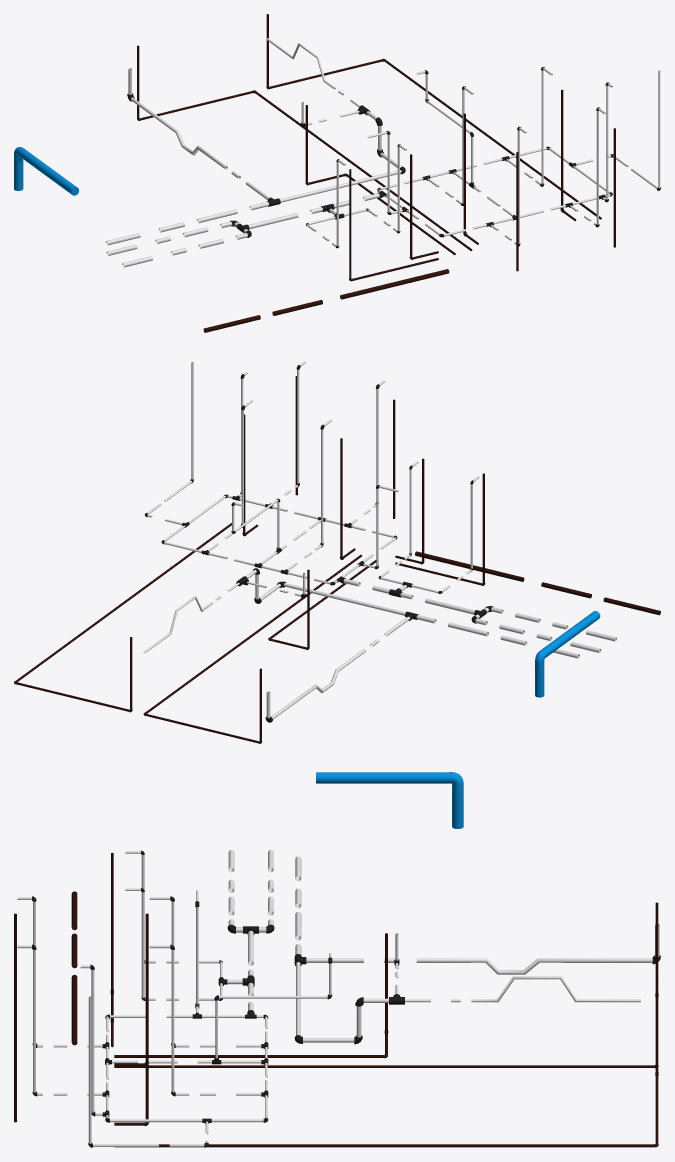
3 views of the same model, one above another, from view 1: azimuth 30°, elevation 25°; view 2: azimuth 150°, elevation 25°; view 3: azimuth 270°, elevation 25° (orthographic). The views are drawn at different scales.
Parts seen in each view (by area): view 1: 回水管1, 回水管2, 示意管（不通水）, 进水管11, 回水管10, 回水管3, 进水管4, 回水管9; view 2: 回水管1, 回水管2, 示意管（不通水）, 进水管11, 回水管10, 回水管3, 进水管4, 回水管9; view 3: 回水管1, 示意管（不通水）, 回水管2, 进水管4, 进水管11, 回水管3, 进水管40, 进水管8, 回水管10, 回水管4, 进水管33, 进水管38 (+1 smaller).
Part boxes in pixels (left/top/right/bottom): 回水管1: left=266, top=14, right=601, bottom=219; 回水管2: left=137, top=45, right=472, bottom=251; 示意管（不通水）: left=14, top=147, right=78, bottom=195; 进水管11: left=196, top=111, right=401, bottom=223; 回水管10: left=272, top=269, right=449, bottom=315; 回水管3: left=305, top=105, right=455, bottom=255; 进水管4: left=128, top=68, right=227, bottom=169; 回水管9: left=349, top=169, right=438, bottom=280; 回水管1: left=15, top=523, right=231, bottom=711; 回水管2: left=145, top=554, right=361, bottom=743; 示意管（不通水）: left=535, top=611, right=600, bottom=697; 进水管11: left=246, top=570, right=488, bottom=636; 回水管10: left=415, top=551, right=591, bottom=598; 回水管3: left=270, top=560, right=376, bottom=649; 进水管4: left=266, top=648, right=366, bottom=719; 回水管9: left=395, top=473, right=484, bottom=585; 回水管1: left=114, top=981, right=658, bottom=1147; 示意管（不通水）: left=316, top=772, right=463, bottom=828; 回水管2: left=114, top=902, right=658, bottom=1067; 进水管4: left=416, top=924, right=659, bottom=974; 进水管11: left=295, top=911, right=388, bottom=1042; 回水管3: left=114, top=933, right=387, bottom=1057; 进水管40: left=88, top=996, right=158, bottom=1146; 进水管8: left=471, top=976, right=640, bottom=1002; 回水管10: left=71, top=933, right=77, bottom=1045; 回水管4: left=114, top=973, right=148, bottom=1125; 进水管33: left=149, top=945, right=189, bottom=1095; 进水管38: left=80, top=965, right=102, bottom=1115.
Bounding box in the file's own units: 5.02 × 1.4 × 4.5.
